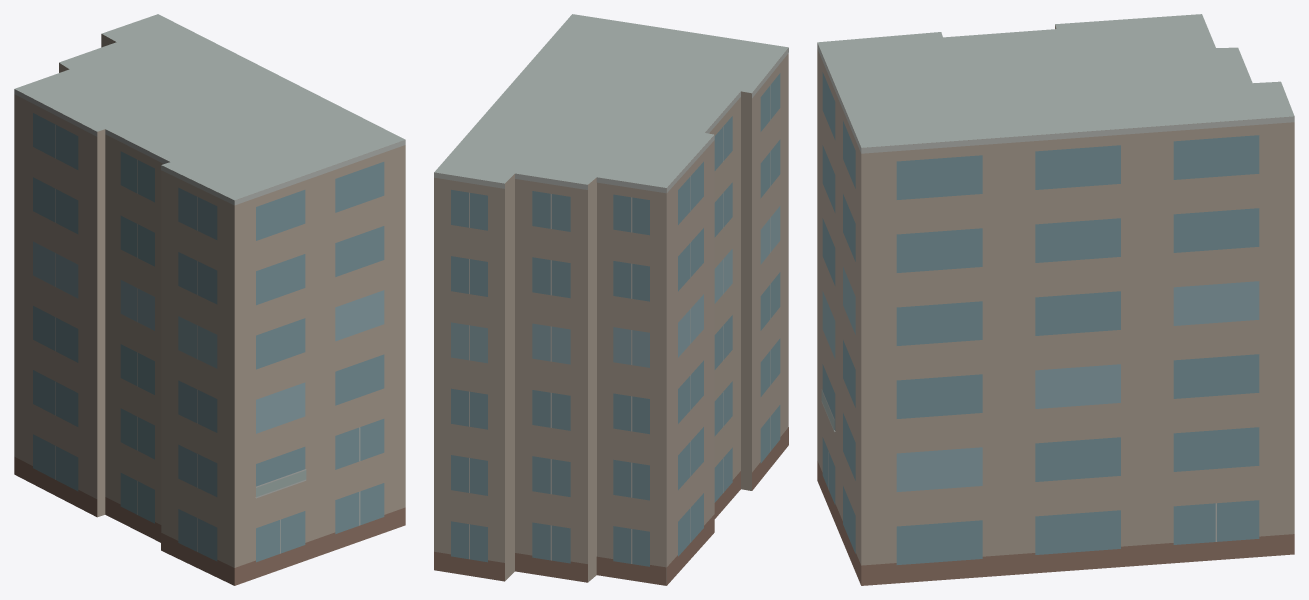
Rendered from survey-upis-32714281.glb.
3 views of the same model, side by side, from view 1: azimuth 30°, elevation 25°; view 2: azimuth 150°, elevation 25°; view 3: azimuth 270°, elevation 25° (orthographic). The views are drawn at different scales.
Visible parts, largest first — view 1: survey-upis-32714281.tmp; view 2: survey-upis-32714281.tmp; view 3: survey-upis-32714281.tmp.
Boxes of the visible parts, box(x1,y1,x2,y2) form: survey-upis-32714281.tmp: box(14, 14, 405, 585); survey-upis-32714281.tmp: box(434, 14, 788, 585); survey-upis-32714281.tmp: box(817, 14, 1294, 585).
Size of the model in its own units: 12 by 18.3 by 18.09.
